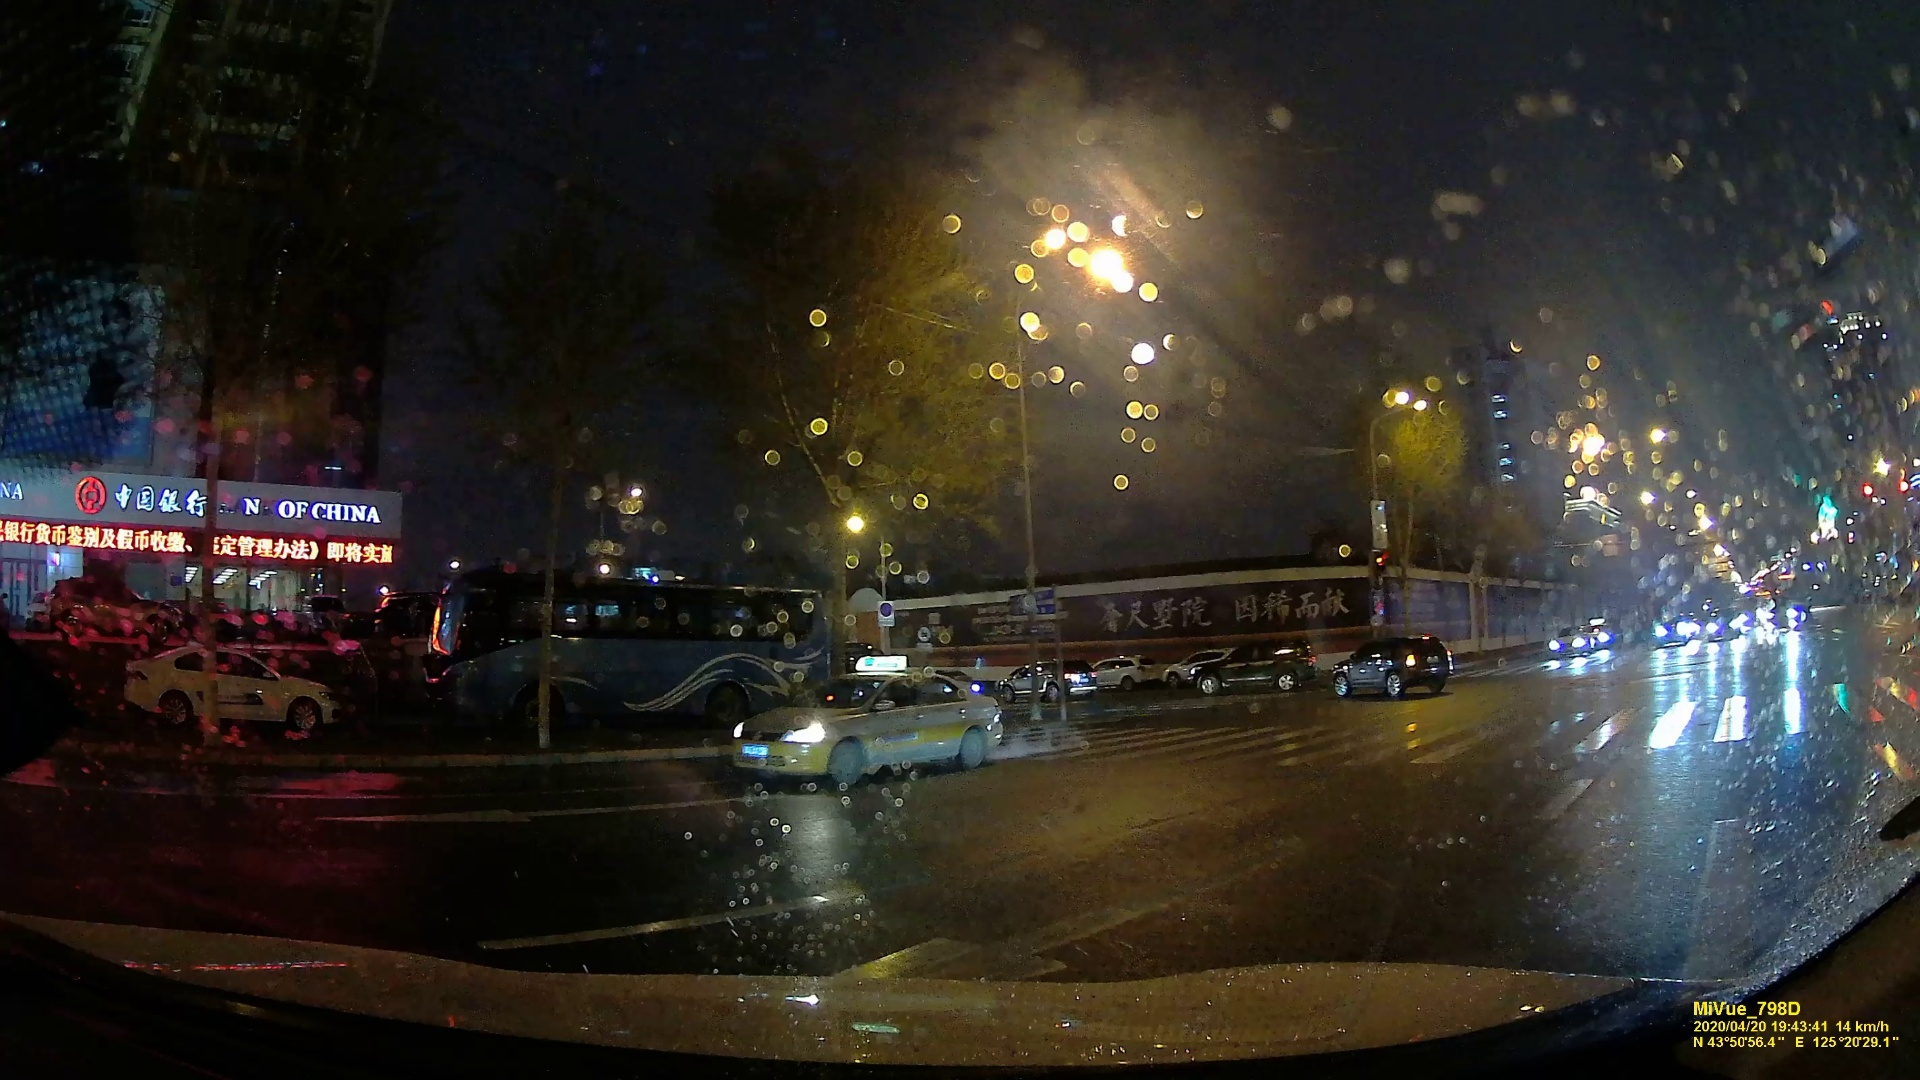bus: (731, 670, 984, 781)
traffic_sign: (1367, 498, 1391, 549), (1373, 550, 1386, 574)
vehicle: (425, 564, 828, 736), (1331, 634, 1451, 698), (1195, 638, 1309, 687), (1000, 661, 1092, 702), (1551, 622, 1586, 655)
